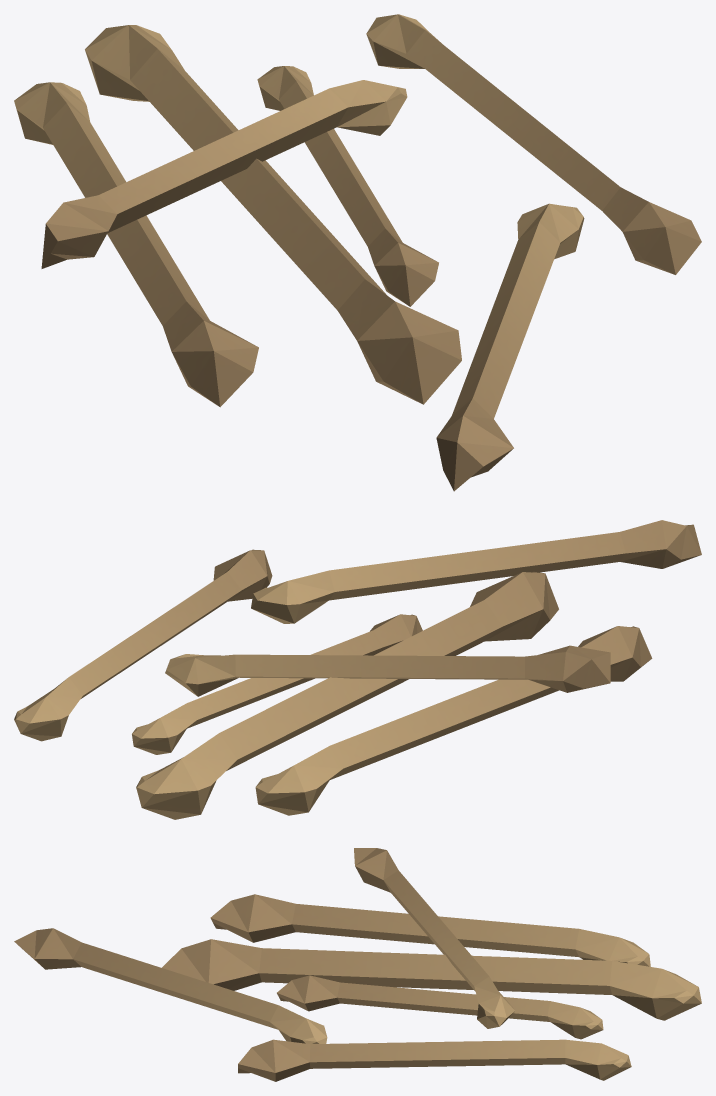
The model's file is Skull_2C.fbx.
3 renders of one model, top to bottom at view 1: azimuth 30°, elevation 25°; view 2: azimuth 150°, elevation 25°; view 3: azimuth 270°, elevation 25°, orthographic. The views are drawn at different scales.
Visible parts, largest first — view 1: polySurface1323; view 2: polySurface1323; view 3: polySurface1323.
Part boxes in pixels (x1=…): polySurface1323: x1=14, y1=14, x2=701, y2=491; polySurface1323: x1=14, y1=520, x2=701, y2=819; polySurface1323: x1=14, y1=848, x2=701, y2=1081.
Bounding box in the file's own units: 1.86 × 0.3898 × 2.99.
